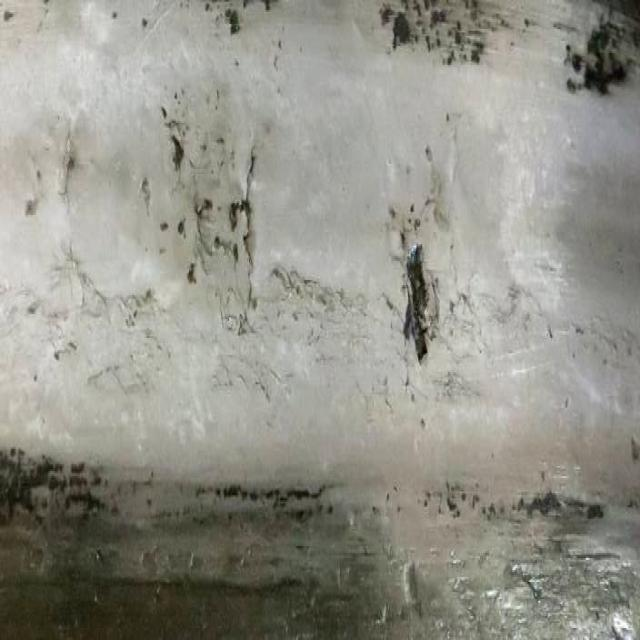Blue hole: (399, 236, 434, 363), (587, 15, 629, 95)
Contact_Fatigue_Cracks: (60, 230, 167, 350), (263, 259, 387, 346), (214, 271, 261, 395), (442, 258, 485, 373), (241, 133, 261, 193)
Peeling: (3, 455, 56, 520), (230, 198, 254, 266), (522, 490, 564, 517), (67, 491, 103, 518), (394, 12, 411, 54), (170, 135, 185, 174), (564, 45, 584, 73), (291, 487, 321, 504), (226, 8, 242, 36), (196, 199, 214, 223), (589, 501, 608, 520), (224, 482, 244, 498), (380, 5, 392, 27), (178, 219, 188, 239), (188, 266, 197, 288), (72, 465, 89, 475), (295, 511, 307, 520), (215, 237, 222, 251)
